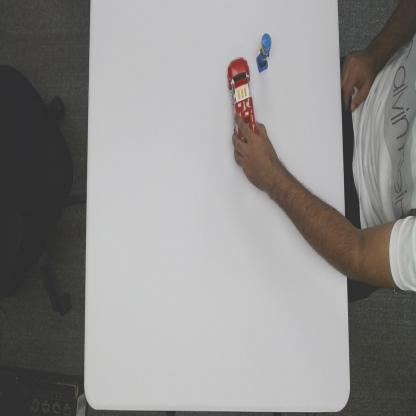Arm: (267, 162, 347, 276)
Firetruck: (226, 54, 258, 138)
Hand: (232, 120, 274, 188)
